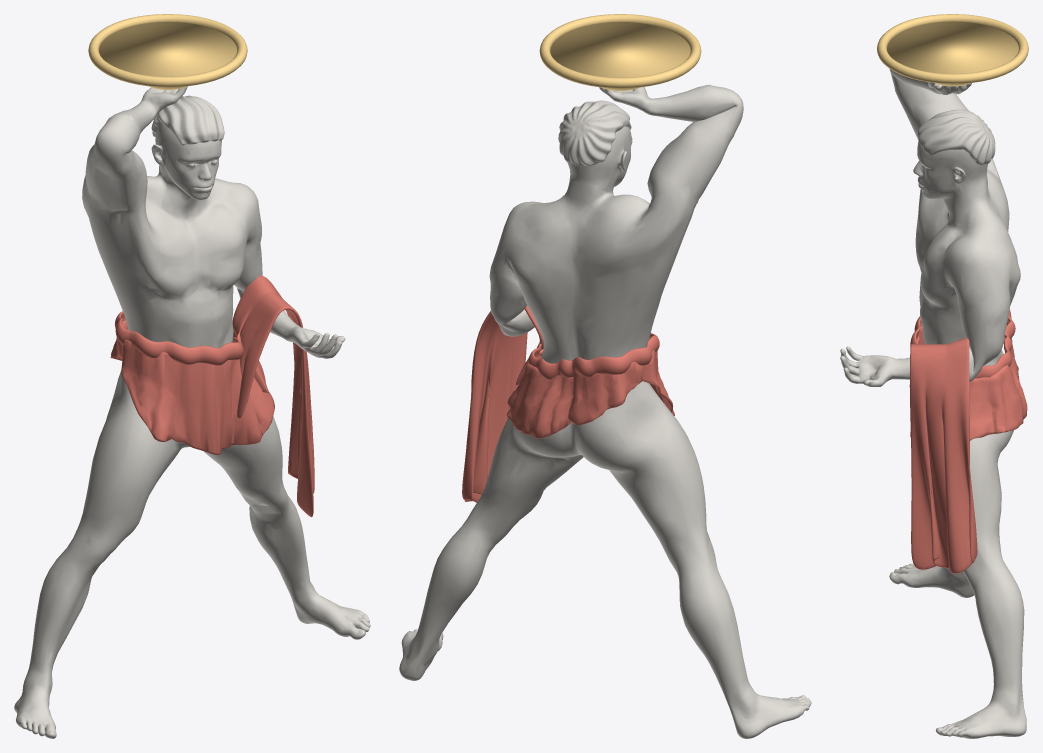
The model's file is colossus.glb.
3 renders of one model, left to right at view 1: azimuth 30°, elevation 25°; view 2: azimuth 150°, elevation 25°; view 3: azimuth 270°, elevation 25°, orthographic. The views are drawn at different scales.
Visible parts, largest first — view 1: GEO-body_male_realistic.posed, cloth, cloth.002, Cone, Torus, hair, cloth.001; view 2: GEO-body_male_realistic.posed, cloth, cloth.002, Cone, Torus, hair, cloth.001; view 3: GEO-body_male_realistic.posed, cloth.002, Cone, cloth, Torus, hair, cloth.001.
Part boxes in pixels (x1,y1,x2,y2): GEO-body_male_realistic.posed: (14,86,370,738); cloth: (110,320,274,454); cloth.002: (232,276,314,517); Cone: (99,21,237,89); Torus: (88,14,247,87); hair: (151,95,224,145); cloth.001: (114,311,243,365); GEO-body_male_realistic.posed: (399,84,811,738); cloth: (506,349,674,438); cloth.002: (462,305,543,502); Cone: (550,22,690,90); Torus: (539,14,701,88); hair: (558,100,631,166); cloth.001: (528,333,659,379); GEO-body_male_realistic.posed: (840,69,1026,738); cloth.002: (910,338,977,573); Cone: (887,21,1018,86); cloth: (909,321,1027,440); Torus: (877,14,1028,83); hair: (917,109,995,165); cloth.001: (910,310,1015,378).
Bounding box in the file's own units: 4.88 × 8.11 × 2.26.
